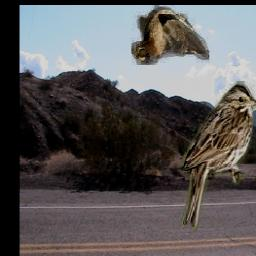Sparrow: (177, 82, 256, 233)
Swallow: (131, 5, 209, 65)
